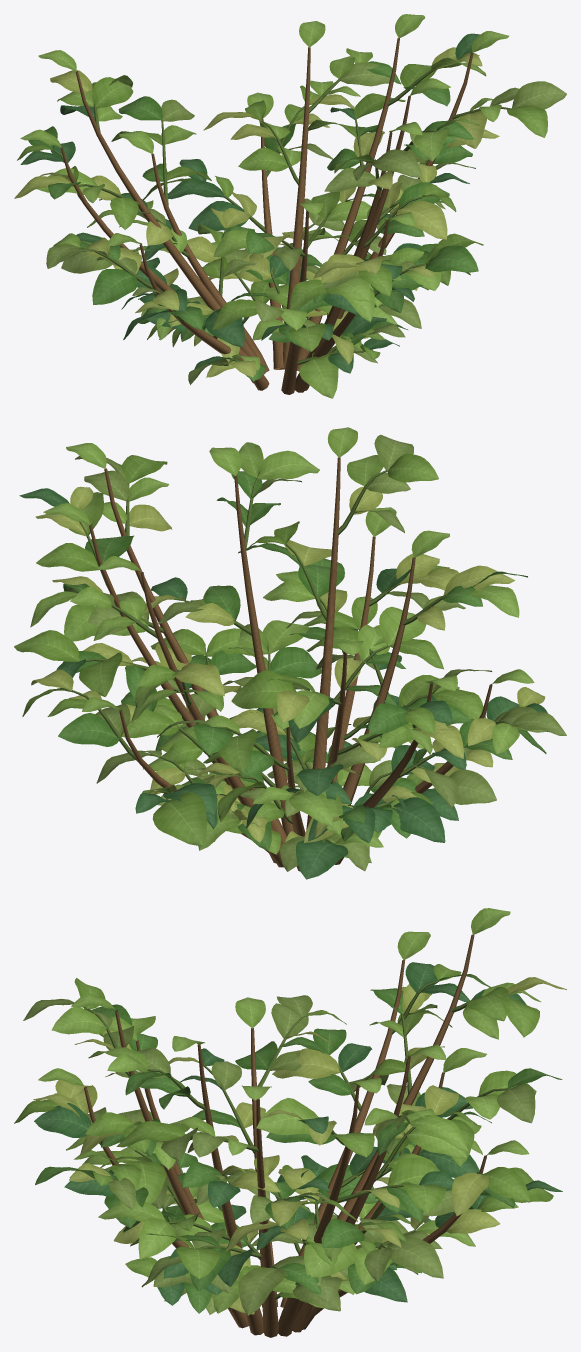
File: SM_ValleyLeafShrub.fbx
3 renders of one model, top to bottom at view 1: azimuth 30°, elevation 25°; view 2: azimuth 150°, elevation 25°; view 3: azimuth 270°, elevation 25°, orthographic. The views are drawn at different scales.
Parts seen in each view (by area): view 1: SM_ValleyLeafShrub; view 2: SM_ValleyLeafShrub; view 3: SM_ValleyLeafShrub.
Part boxes in pixels (bbox=[...]): SM_ValleyLeafShrub: bbox=[14, 14, 566, 398]; SM_ValleyLeafShrub: bbox=[14, 427, 566, 879]; SM_ValleyLeafShrub: bbox=[14, 908, 566, 1337].
Bounding box in the file's own units: 162 × 142 × 99.32.
Materials: 1 (1 with a texture image).
